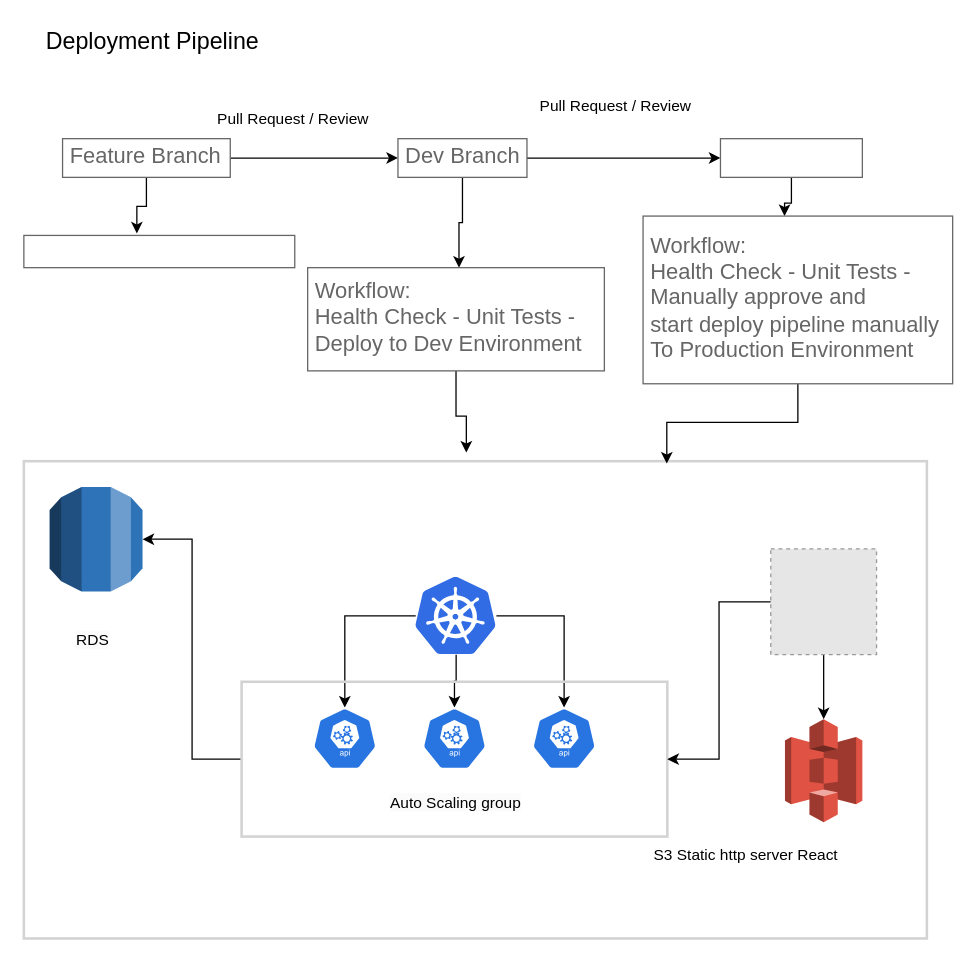
Image size: 975x961. Some labels were removed from this diagram. Grey dashed boxes stand in for pictures. Each missing label, with the centre of its shape:
"Health Check - Unit Tests" goes at point (159, 251).
"Main Branch" goes at point (790, 157).
